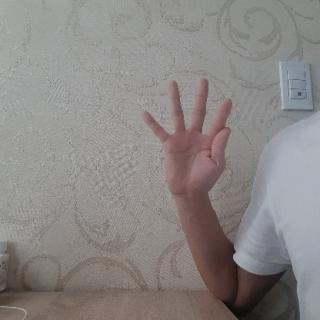SHEEN: (136, 74, 240, 204)
